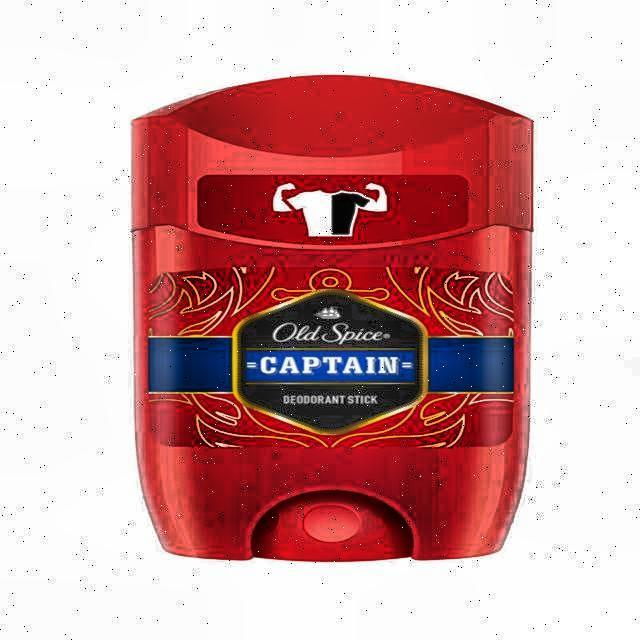plastic: (127, 73, 536, 566)
